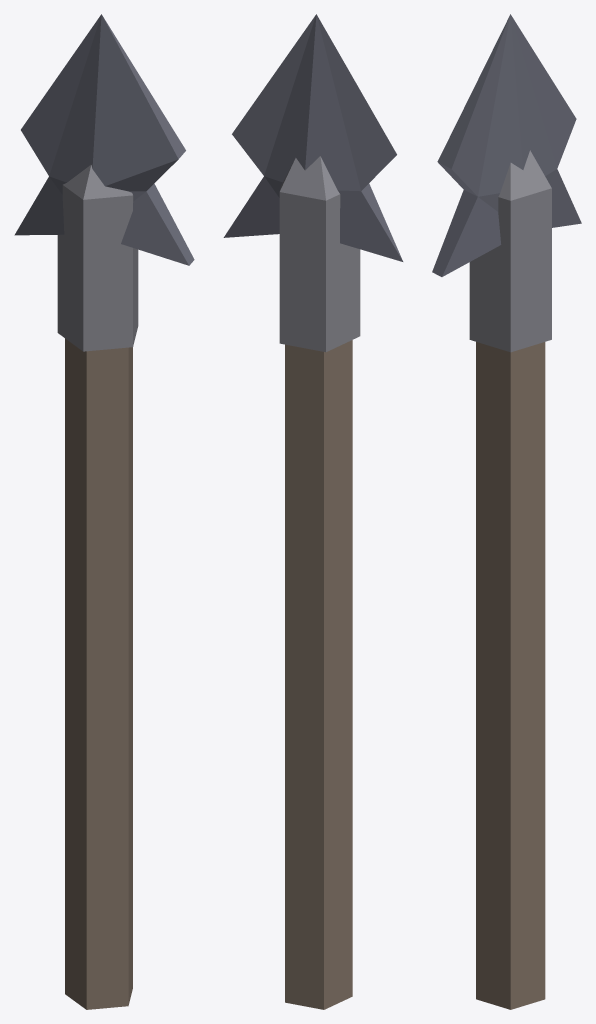
The model's file is _Archers_shell_LVL_2.fbx.
The picture shows the model from 3 angles, left to right: view 1: azimuth 30°, elevation 25°; view 2: azimuth 210°, elevation 25°; view 3: azimuth 270°, elevation 25°; orthographic projection.
Parts seen in each view (by area): view 1: Archers_shell_LVL_2; view 2: Archers_shell_LVL_2; view 3: Archers_shell_LVL_2.
Boxes of the visible parts, x1,y1,x2,y2 form: Archers_shell_LVL_2: (14, 14, 194, 1009); Archers_shell_LVL_2: (223, 14, 403, 1009); Archers_shell_LVL_2: (432, 14, 581, 1009).
Bounding box in the file's own units: 27.02 × 230 × 31.88.
